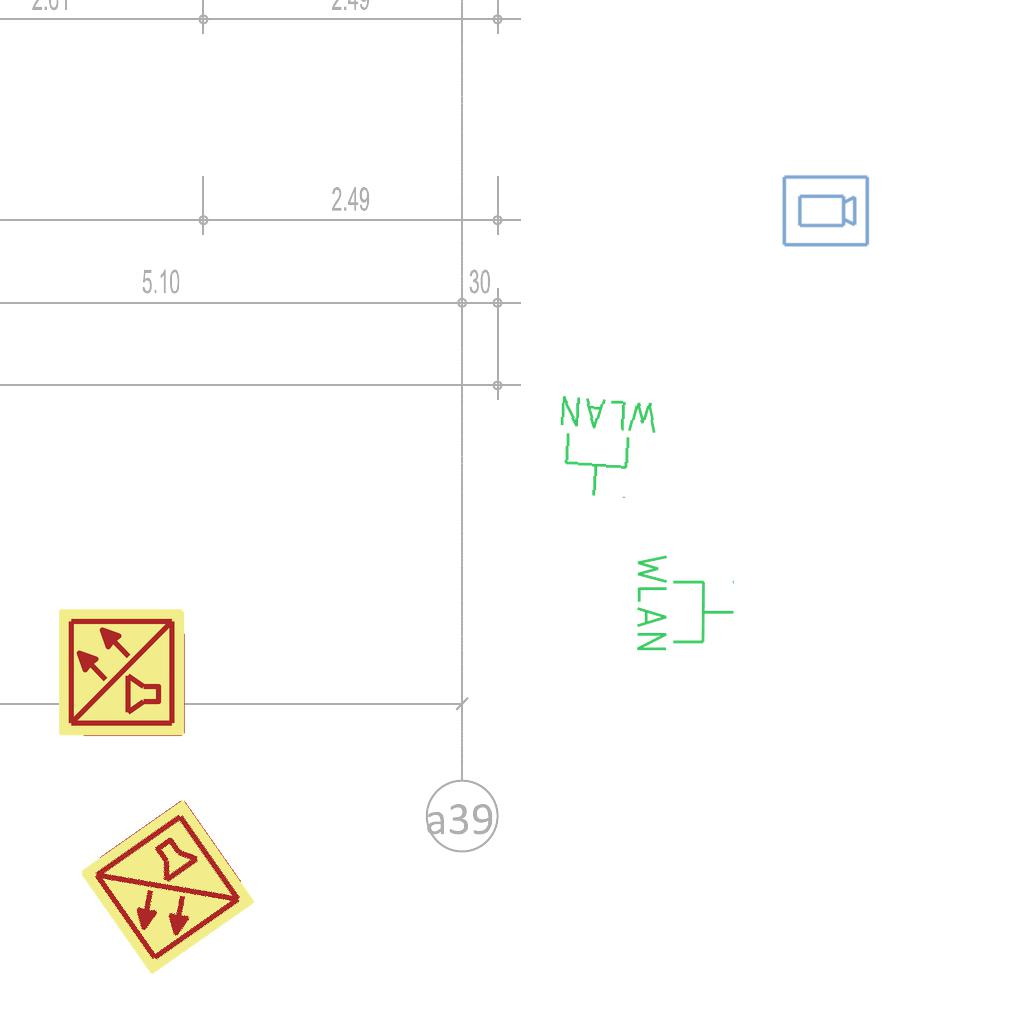KFO_Kamera_mit_Festobjektiv: (780, 173, 871, 250)
OKW_Multisensormelder_(Kombination_optischer_Rauch-Kahlenmonoxid_Waerme-Melder): (75, 795, 259, 979), (56, 606, 188, 738)
WLAN: (551, 391, 663, 504), (633, 550, 737, 655)
